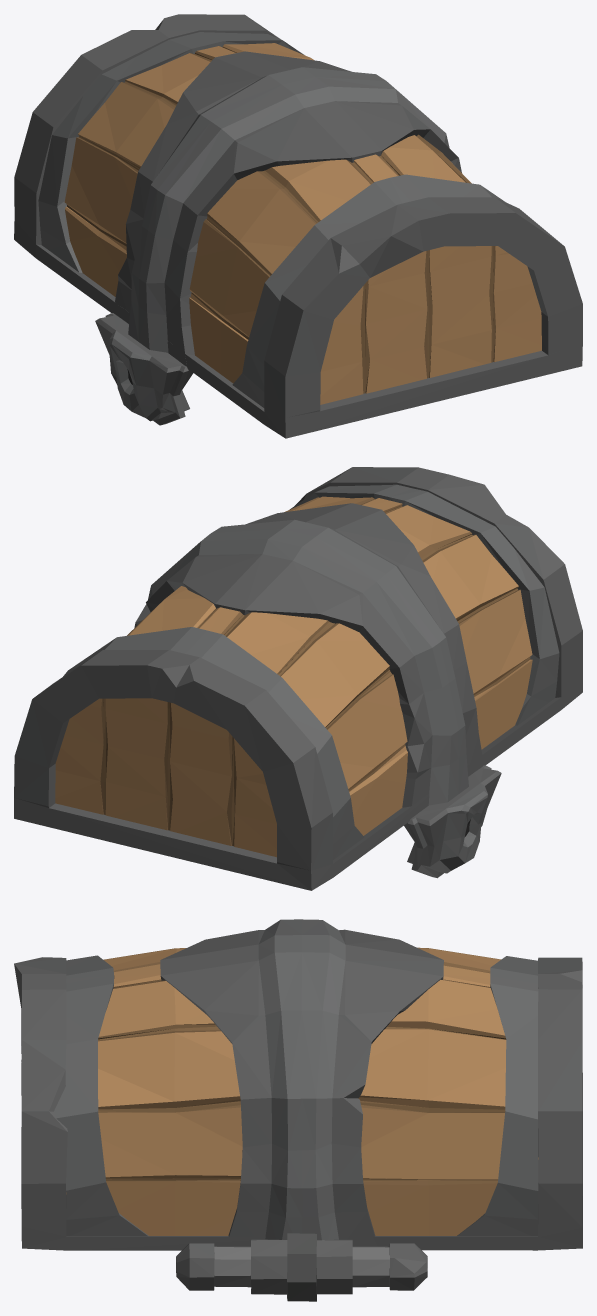
Rendered from AWS_Chest_001.fbx.
3 views of the same model, one above another, from view 1: azimuth 30°, elevation 25°; view 2: azimuth 150°, elevation 25°; view 3: azimuth 270°, elevation 25° (orthographic). The views are drawn at different scales.
Parts seen in each view (by area): view 1: AWS_Chest_001; view 2: AWS_Chest_001; view 3: AWS_Chest_001.
Part boxes in pixels (x1,y1,x2,y2): AWS_Chest_001: [14, 14, 582, 438]; AWS_Chest_001: [14, 467, 582, 890]; AWS_Chest_001: [14, 919, 582, 1301].
Size of the model in its own units: 65.46 by 50.67 by 84.3.
